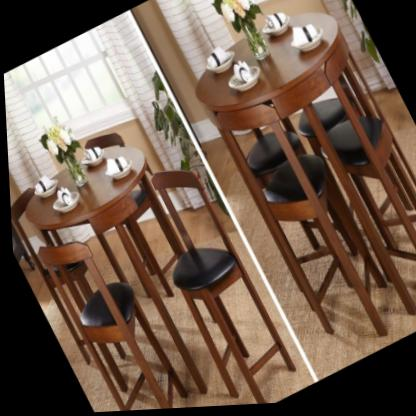Dining Table: (4, 89, 314, 416), (177, 0, 416, 372)
